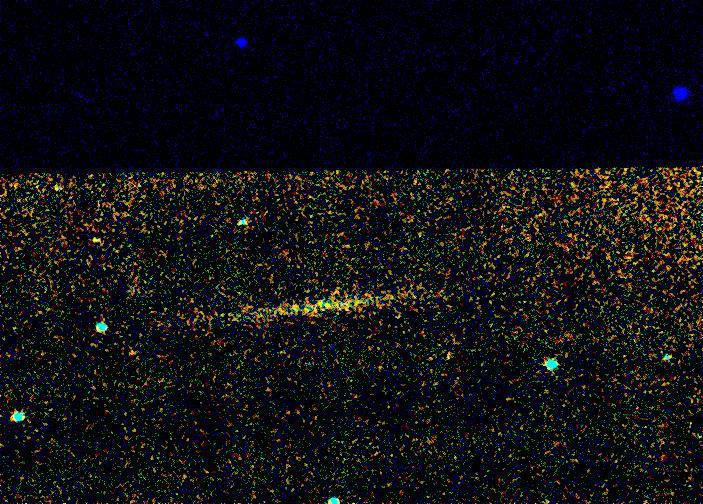star: (116, 339, 146, 369)
